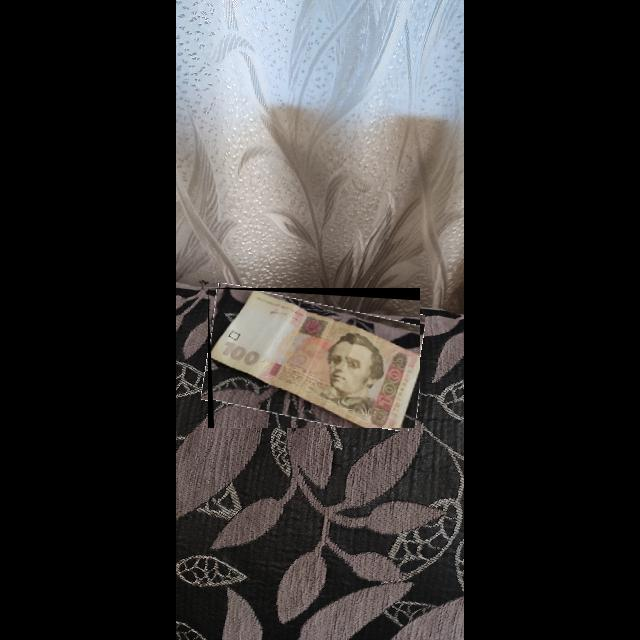100uah: (211, 291, 421, 429)
